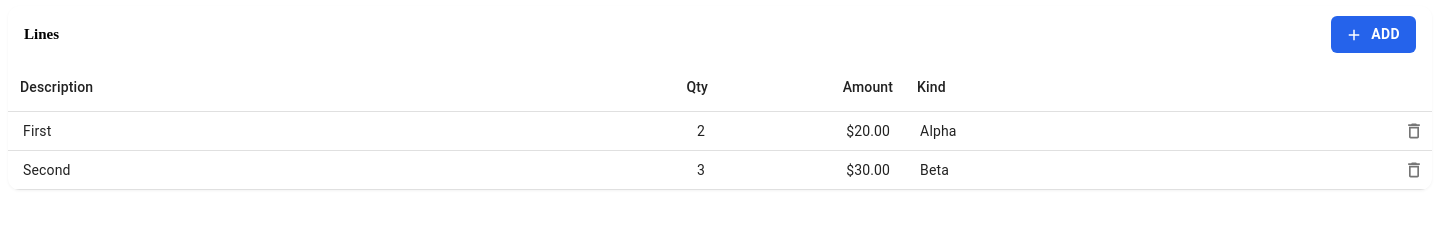
ChildRowsGrid › without edit permission existing rows stay text; Add still works with create
This screenshot has width=1440, height=252.
Click the button "Add".
click(1374, 34)  # box 1331,16 -> 1416,53
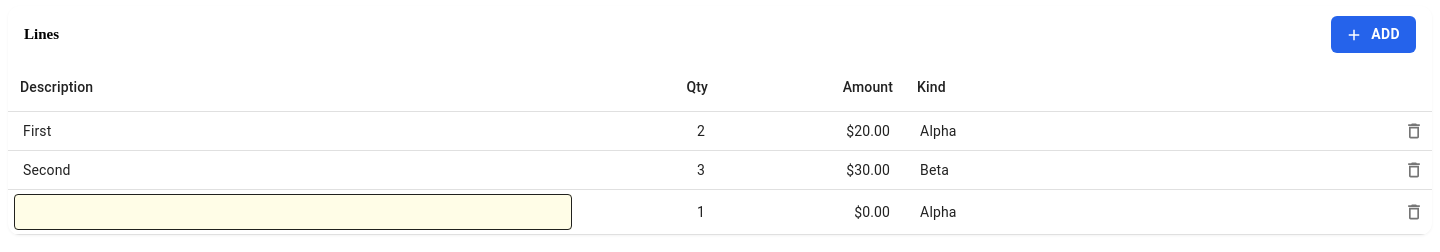
Expected: the number of text boxes is 1, 14,194 -> 572,230
